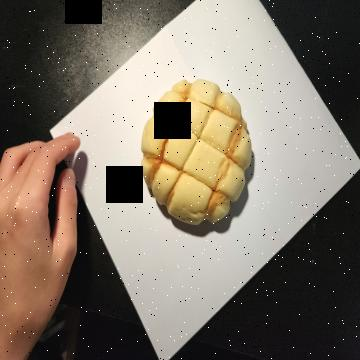melon_bread: (139, 80, 253, 229)
